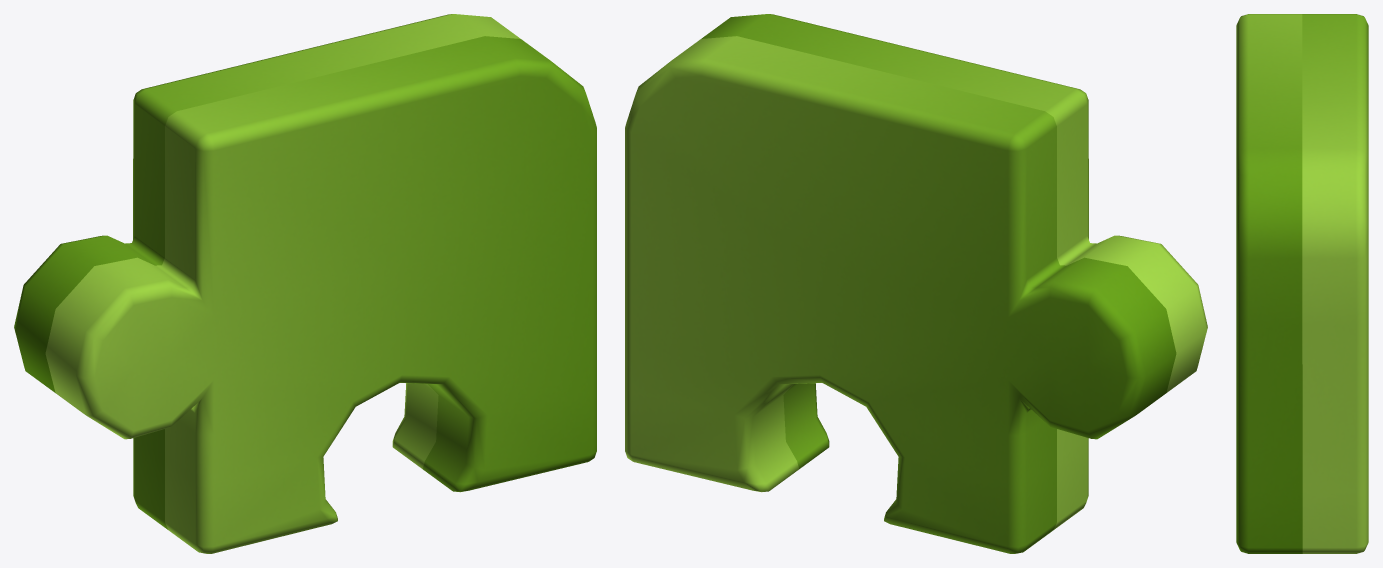
The model's file is PuzzlePieceGreen.fbx.
3 renders of one model, left to right at view 1: azimuth 30°, elevation 25°; view 2: azimuth 150°, elevation 25°; view 3: azimuth 270°, elevation 25°, orthographic. The views are drawn at different scales.
Visible parts, largest first — view 1: PuzzlePieceGreen; view 2: PuzzlePieceGreen; view 3: PuzzlePieceGreen.
Boxes of the visible parts, x1=… form: PuzzlePieceGreen: x1=14, y1=14, x2=596, y2=553; PuzzlePieceGreen: x1=625, y1=14, x2=1207, y2=553; PuzzlePieceGreen: x1=1236, y1=14, x2=1368, y2=553.
Size of the model in its own units: 102 by 79.04 by 25.25.
